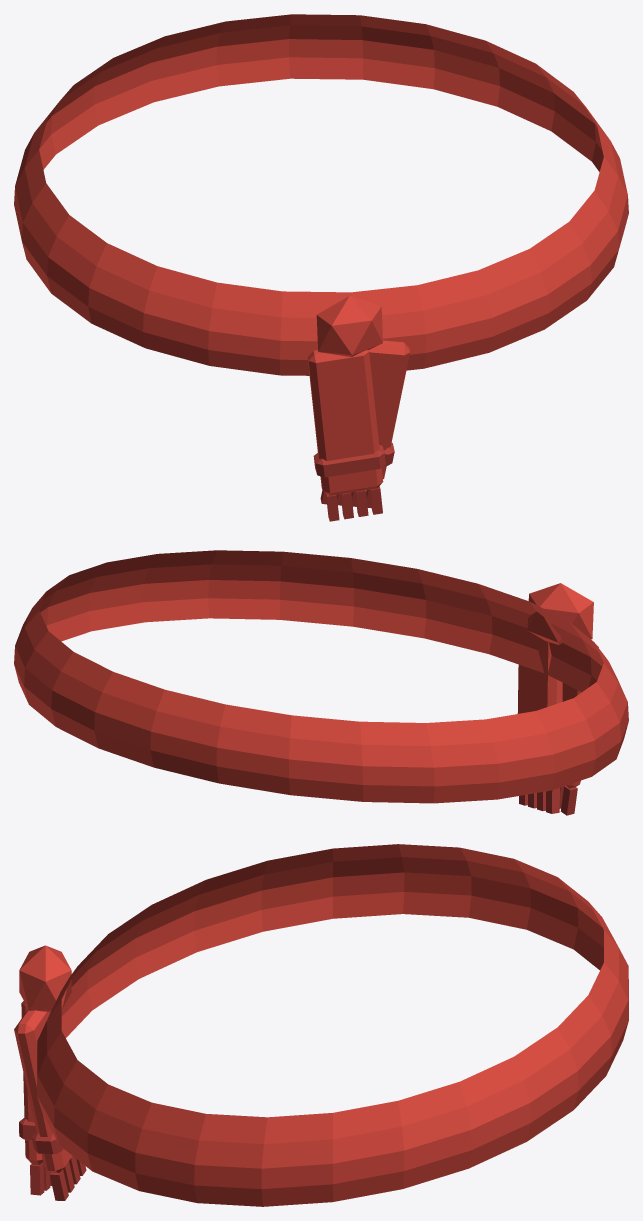
The model's file is scarf.glb.
3 views of the same model, one above another, from view 1: azimuth 30°, elevation 25°; view 2: azimuth 150°, elevation 25°; view 3: azimuth 270°, elevation 25° (orthographic). The views are drawn at different scales.
Parts seen in each view (by area): view 1: scarf; view 2: scarf; view 3: scarf.
Boxes of the visible parts, x1=… form: scarf: x1=14, y1=14, x2=628, y2=521; scarf: x1=14, y1=550, x2=628, y2=815; scarf: x1=14, y1=844, x2=628, y2=1206.
Bounding box in the file's own units: 0.7733 × 0.3701 × 0.6988.
